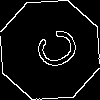C: (25, 25, 82, 77)
